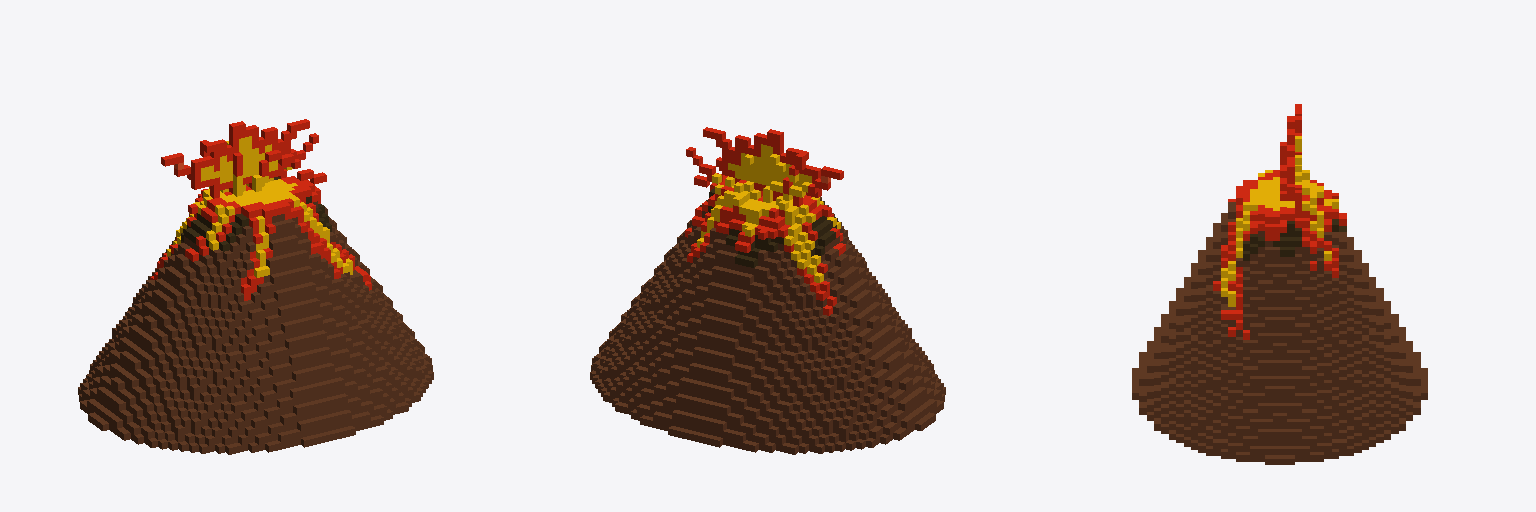
3 renders of one model, left to right at view 1: azimuth 30°, elevation 25°; view 2: azimuth 150°, elevation 25°; view 3: azimuth 270°, elevation 25°, orthographic.
Parts seen in each view (by area): view 1: object 1; view 2: object 1; view 3: object 1.
Boxes of the visible parts, <box> form: object 1: <box>78,119,433,454</box>; object 1: <box>590,127,945,454</box>; object 1: <box>1132,104,1427,464</box>.
Size of the model in its own units: 5 by 3.9 by 4.
Materials: 1 (1 with a texture image).